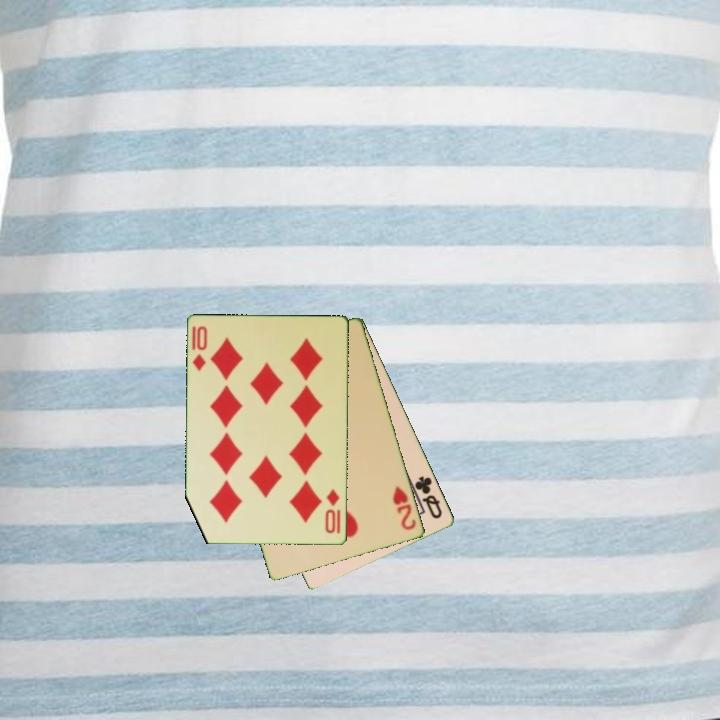10d: (322, 485, 343, 537), (189, 323, 210, 374)
2h: (389, 483, 419, 534)
Qc: (412, 472, 445, 522)
